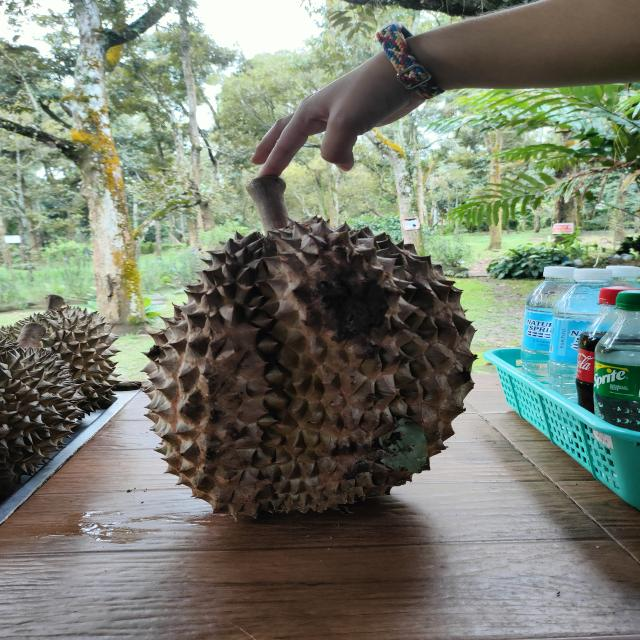mature: (143, 218, 475, 516)
